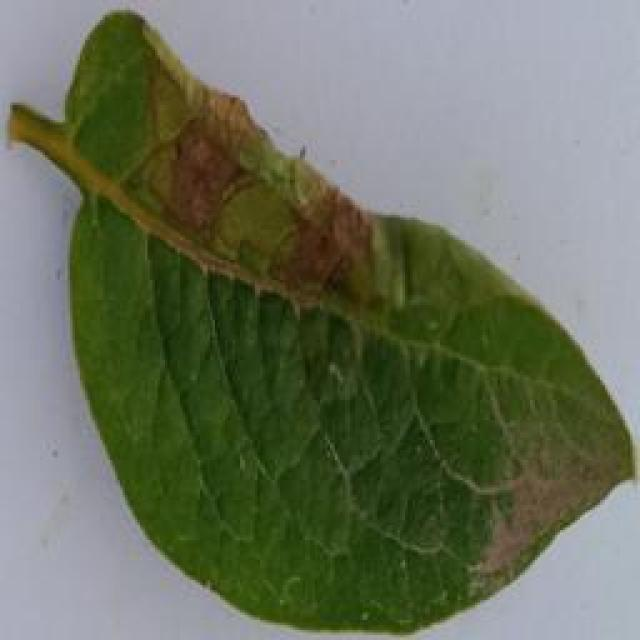Potato_Late_Blight: (11, 22, 632, 616)
